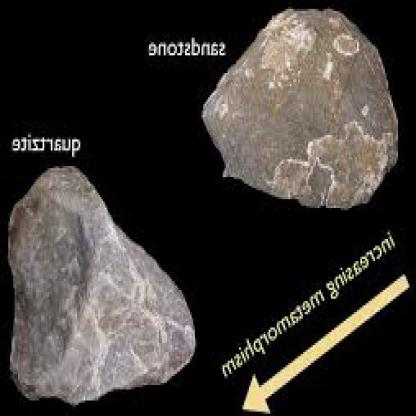Metamorphic_Quartize: (2, 168, 208, 410)
